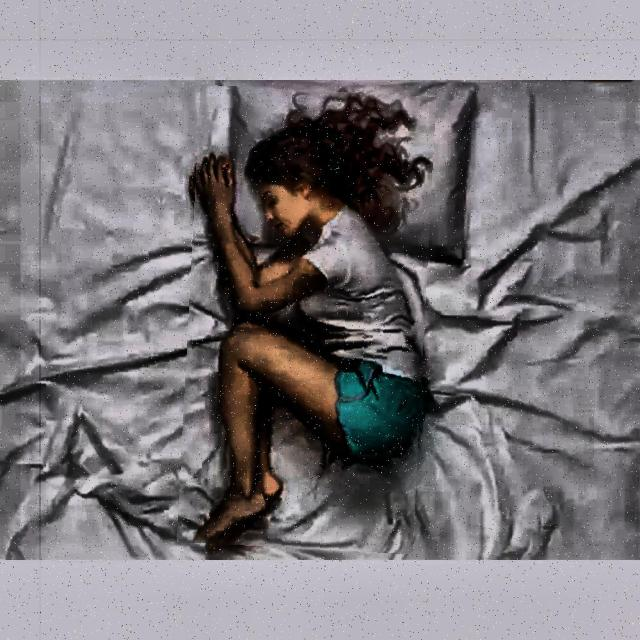Not_Supine: (195, 94, 433, 545)
